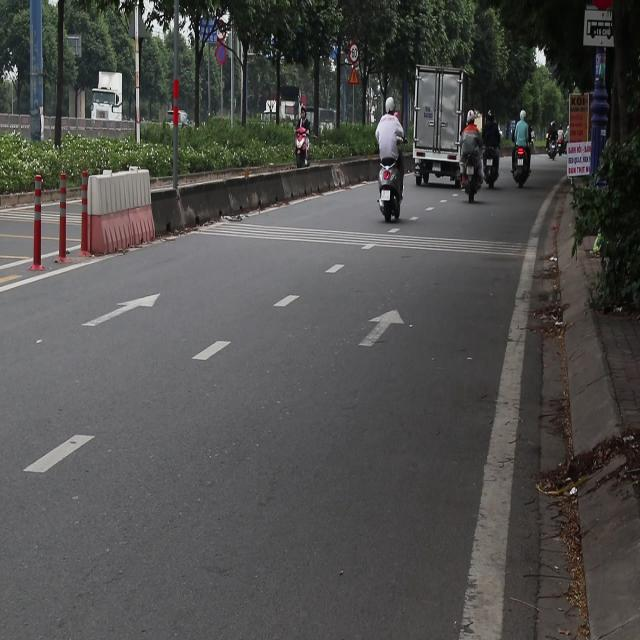car: (292, 114, 318, 166), (163, 98, 194, 138)
motorbike: (458, 121, 484, 202), (377, 156, 406, 224), (511, 144, 532, 189), (547, 130, 565, 159)
truck: (412, 65, 474, 190), (92, 73, 133, 137)
